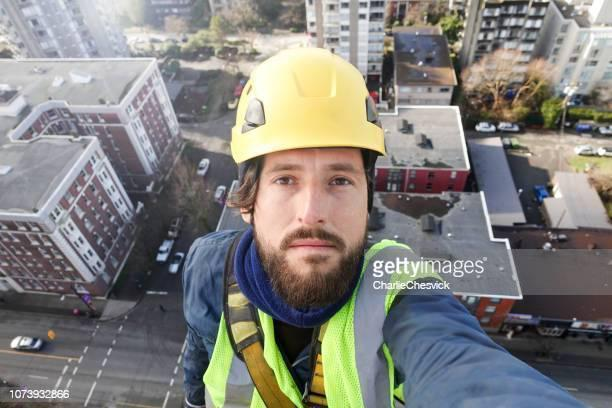helmet: (230, 46, 388, 162)
